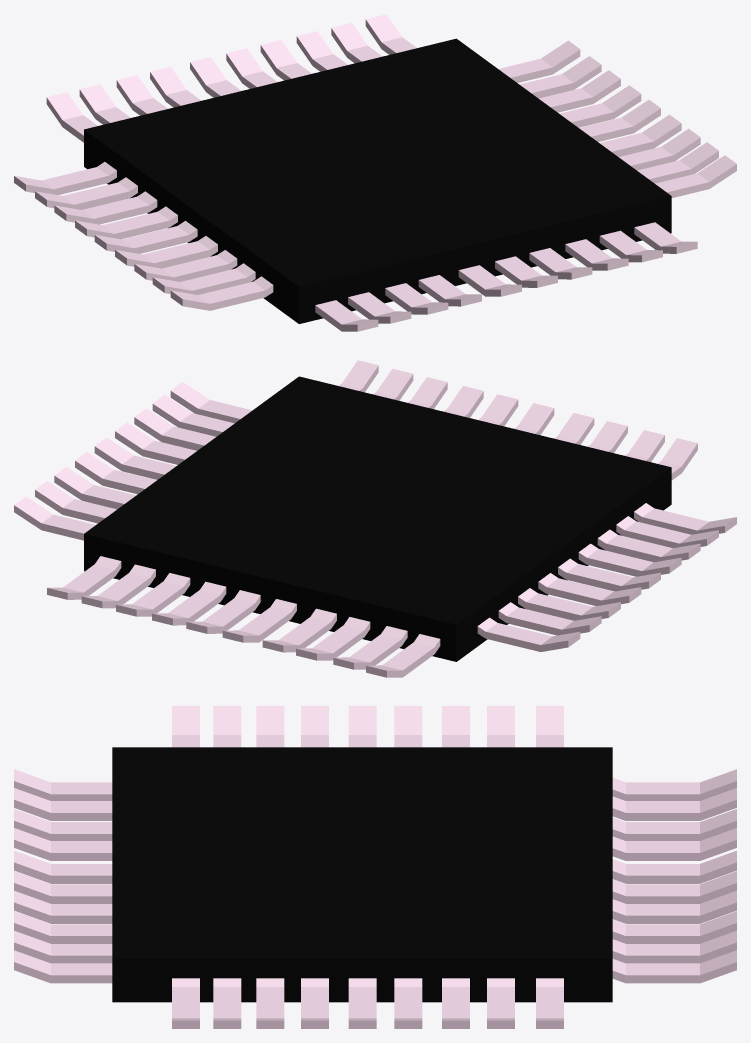
The model's file is Circuit_board.fbx.
The picture shows the model from 3 angles, top to bottom: view 1: azimuth 30°, elevation 25°; view 2: azimuth 150°, elevation 25°; view 3: azimuth 270°, elevation 25°; orthographic projection. The views are drawn at different scales.
Parts seen in each view (by area): view 1: Plane.028; view 2: Plane.028; view 3: Plane.028.
Boxes of the visible parts, x1=… form: Plane.028: x1=14, y1=14, x2=736, y2=331; Plane.028: x1=14, y1=360, x2=736, y2=677; Plane.028: x1=14, y1=706, x2=736, y2=1028.
Bounding box in the file's own units: 298 × 19.13 × 289.
